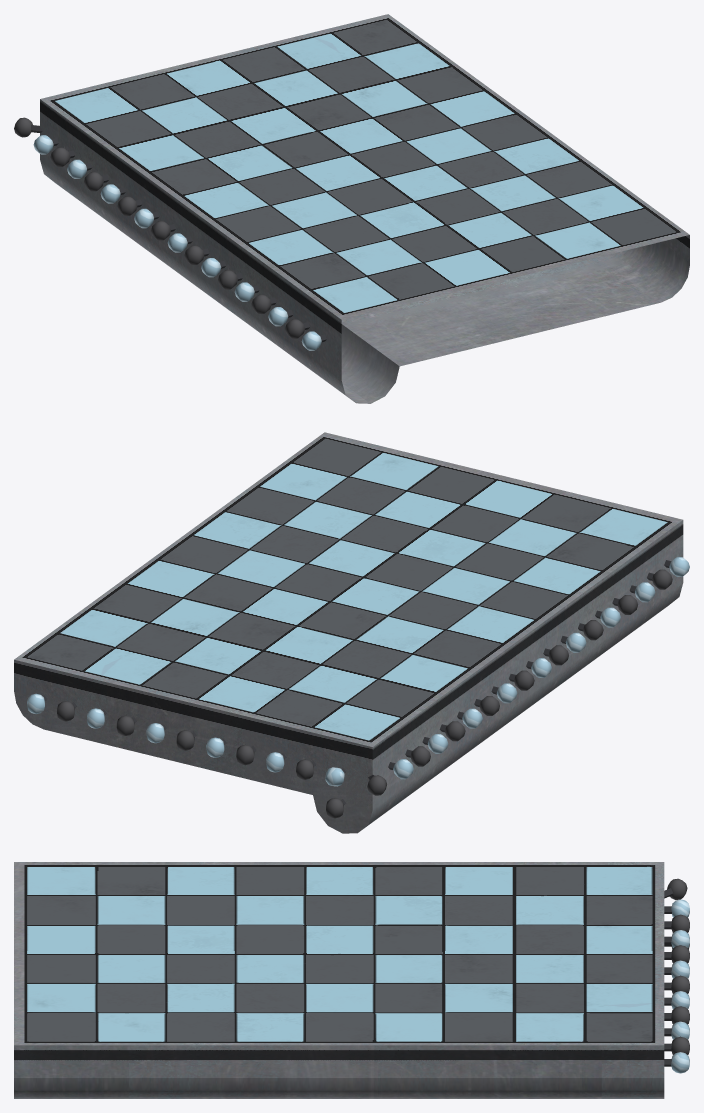
The model's file is Disco_Right_Platform.fbx.
3 renders of one model, top to bottom at view 1: azimuth 30°, elevation 25°; view 2: azimuth 150°, elevation 25°; view 3: azimuth 270°, elevation 25°, orthographic. The views are drawn at different scales.
Parts seen in each view (by area): view 1: pSphere37; view 2: pSphere37; view 3: pSphere37.
Part boxes in pixels (<box>): pSphere37: <box>14,14,689,403</box>; pSphere37: <box>14,432,689,833</box>; pSphere37: <box>14,862,689,1098</box>.
Bounding box in the file's own units: 6.36 × 1.5 × 9.36.
